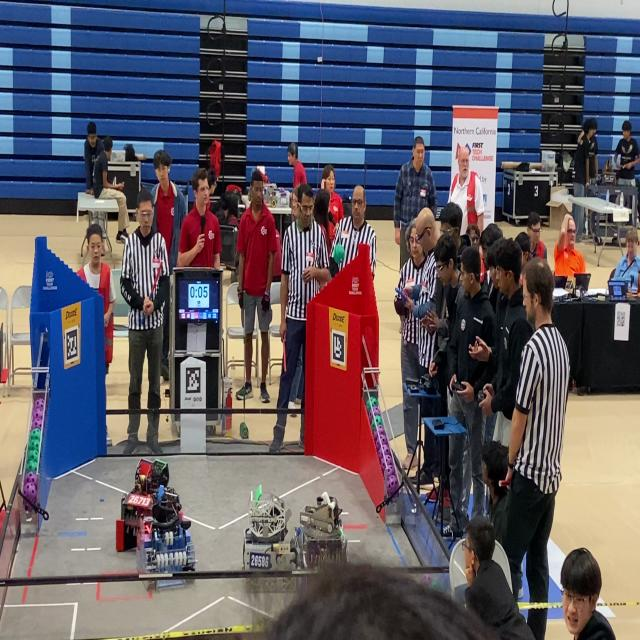artifact_green: (333, 243, 345, 264), (366, 397, 378, 412), (28, 442, 39, 457), (28, 450, 39, 463), (29, 434, 40, 447), (240, 422, 248, 439), (372, 416, 383, 428), (28, 440, 39, 452), (26, 460, 37, 472), (30, 429, 41, 439), (29, 430, 40, 439), (370, 423, 375, 433)
artifact_purple: (386, 473, 399, 496), (23, 483, 37, 503), (375, 426, 387, 445), (368, 406, 381, 423), (385, 460, 396, 480), (380, 456, 392, 473), (374, 431, 384, 451), (377, 426, 388, 444), (24, 472, 37, 485), (379, 453, 388, 471), (384, 467, 394, 483), (33, 398, 45, 410), (31, 417, 42, 430), (32, 415, 42, 428), (372, 415, 383, 426), (375, 425, 385, 437), (376, 440, 382, 459), (385, 454, 393, 468), (371, 406, 382, 416), (33, 408, 43, 419), (381, 444, 390, 456), (378, 451, 384, 469), (22, 477, 29, 492), (373, 429, 381, 442), (375, 438, 381, 455), (34, 398, 44, 408), (379, 454, 384, 471), (368, 411, 373, 424), (24, 502, 30, 511), (100, 498, 104, 502)
